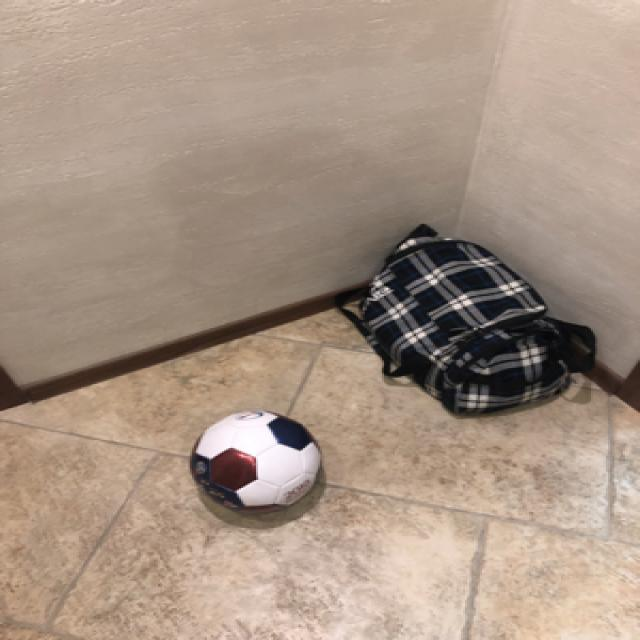soccer_ball: (186, 406, 320, 512)
